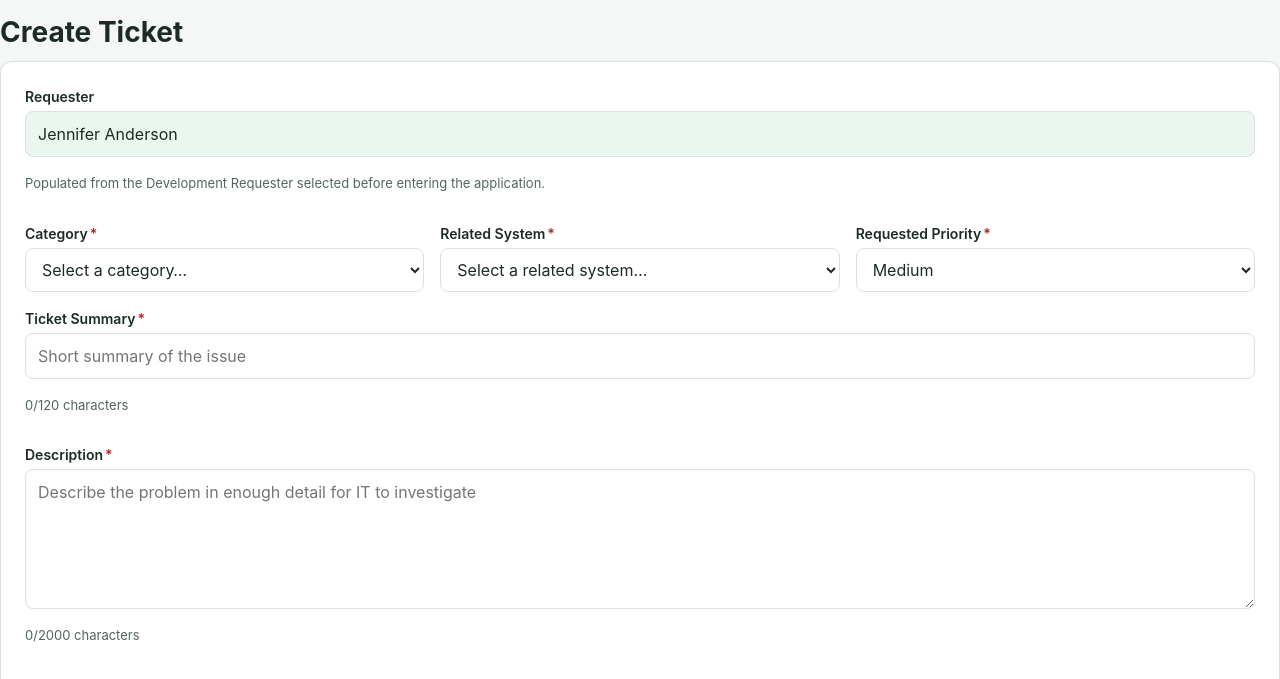
Scenario: CreateTicket › shows the confirmation with the backend-issued Ticket Number on success
Select "Hardware" in the dropdown labelled "Category*": (225, 270) [25,248,424,292]
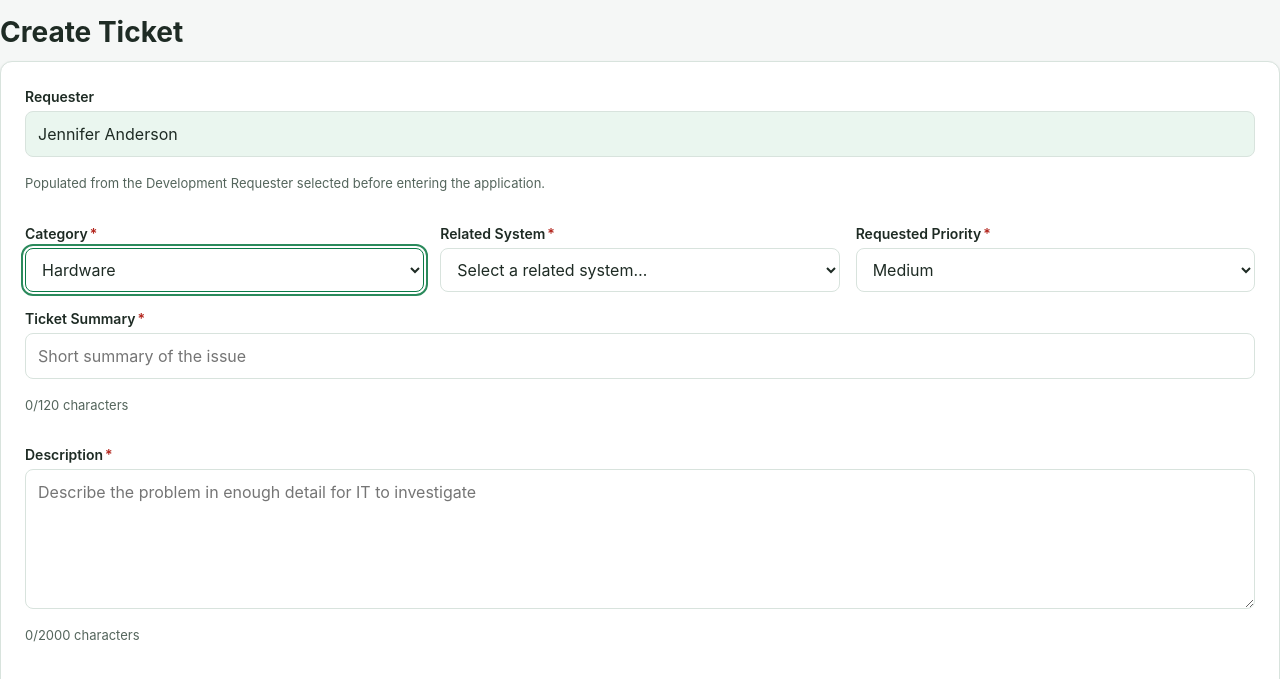
Select "Corporate Laptop" in the dropdown labelled "Related System*": (640, 270) [440,248,840,292]
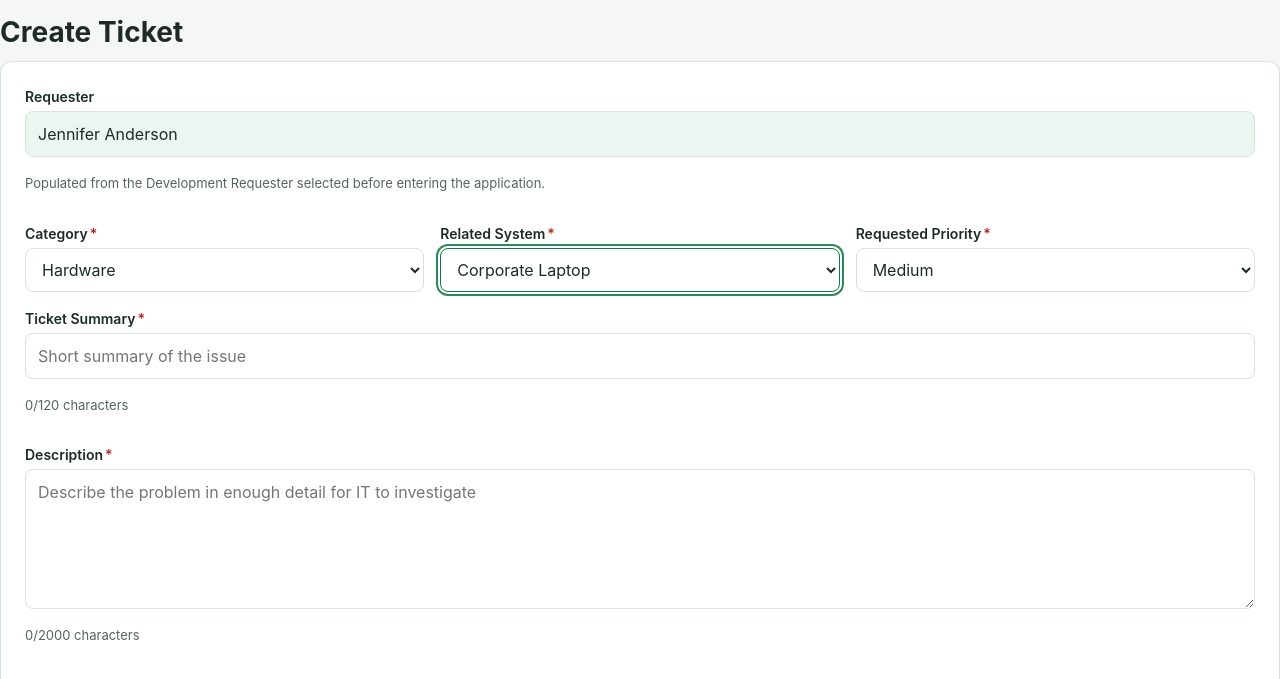
In the field labelled "Ticket Summary*": (640, 356) [25,332,1255,378], type "Laptop battery drains quickly"
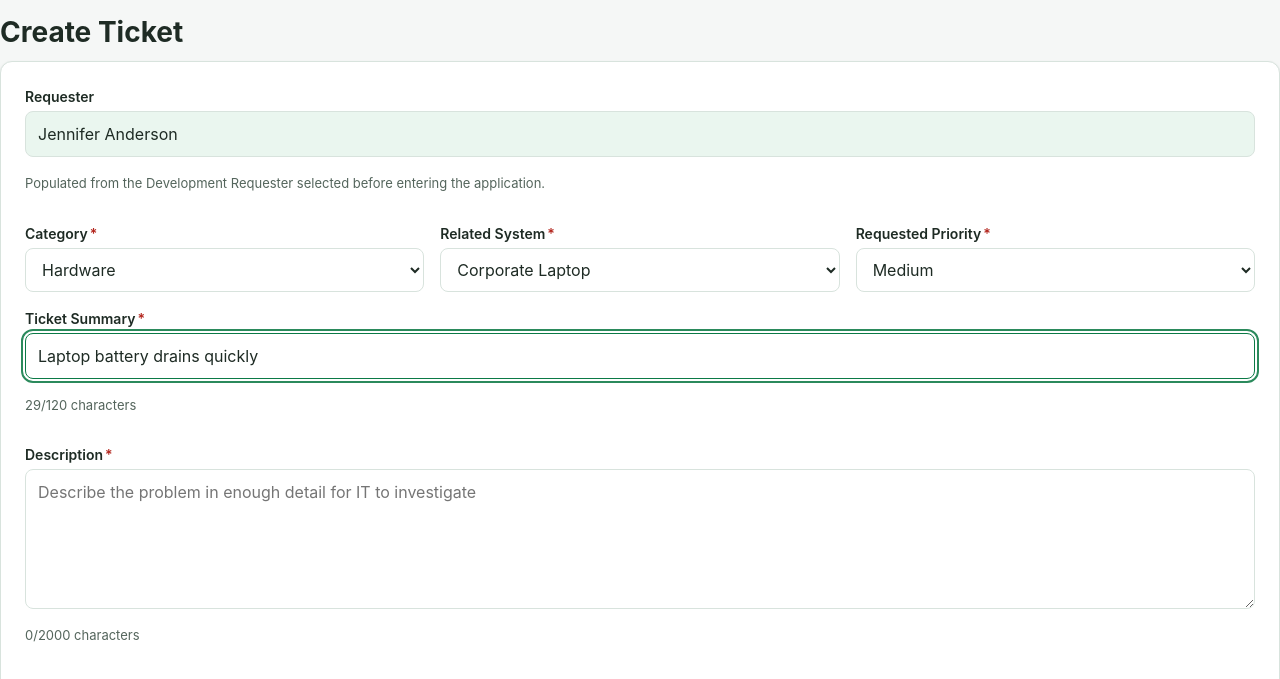
In the text box labelled "Description*": (640, 539) [25,469,1255,609], type "My laptop battery is draining much faster than usual even when idle."
(page scrolled)
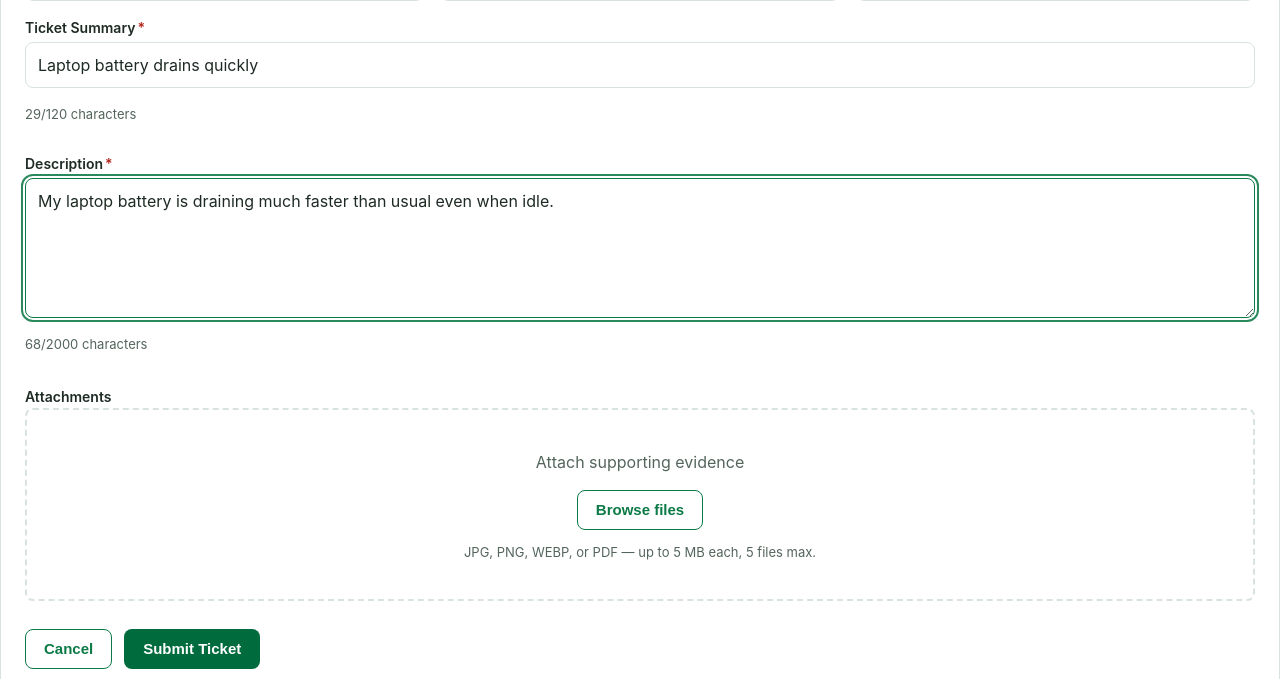
Click the button "Submit Ticket": (192, 649) [124,629,260,669]
(page scrolled)
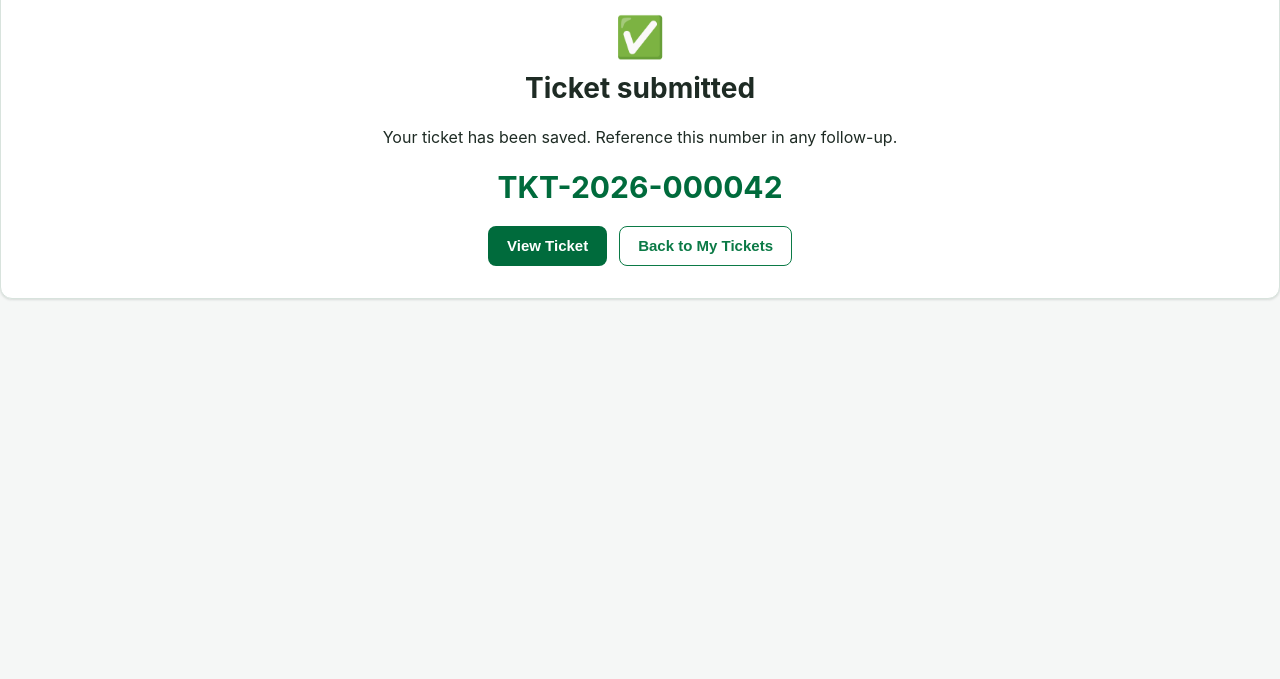
Now the text "TKT-2026-000042" is shown, box [498,169,783,205]
